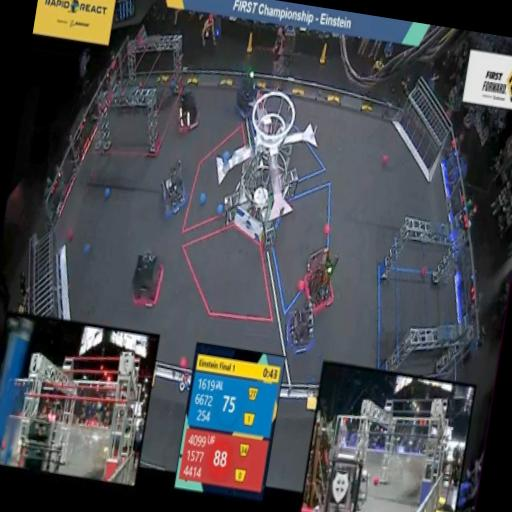robot: (117, 236, 174, 313), (294, 240, 348, 316), (150, 152, 199, 226), (276, 295, 324, 359), (226, 56, 272, 120), (168, 80, 208, 144)
